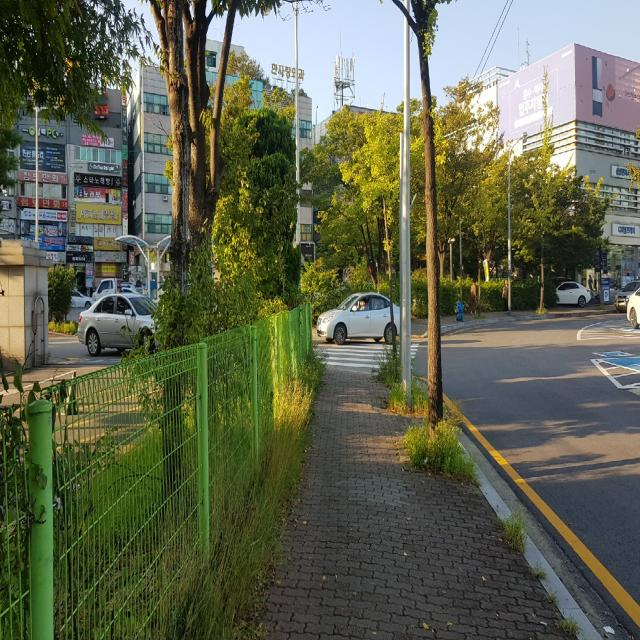횡단보도: (312, 340, 422, 369)
